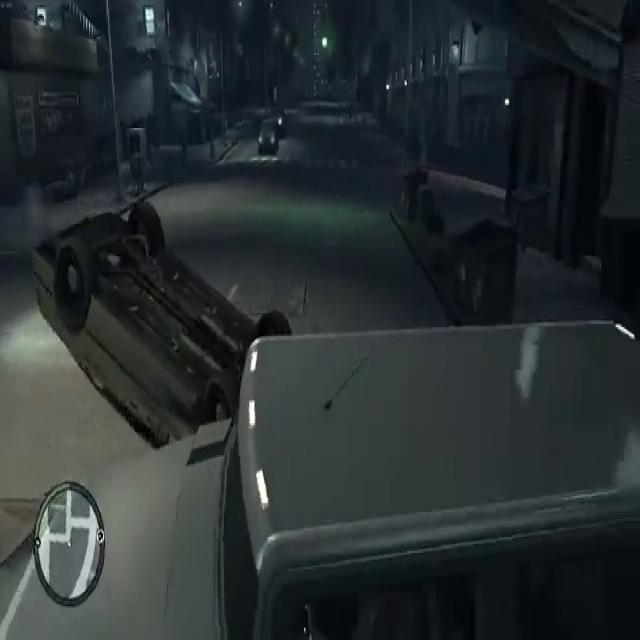accident: (23, 184, 291, 466)
